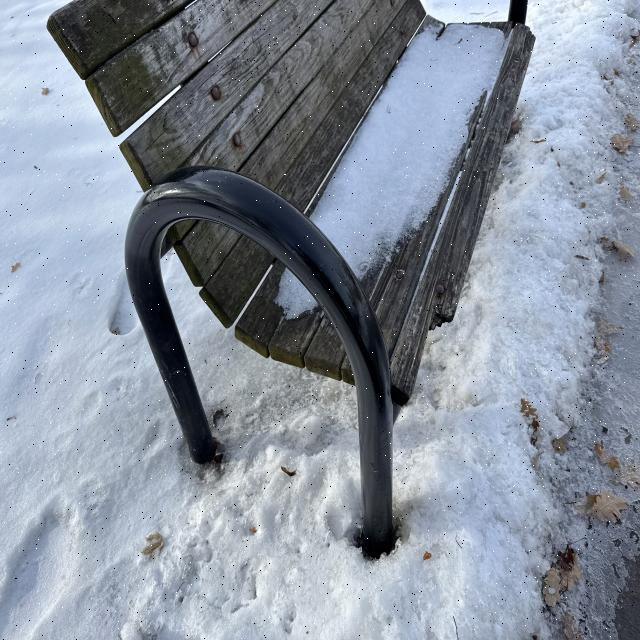Bench: (94, 0, 537, 502)
